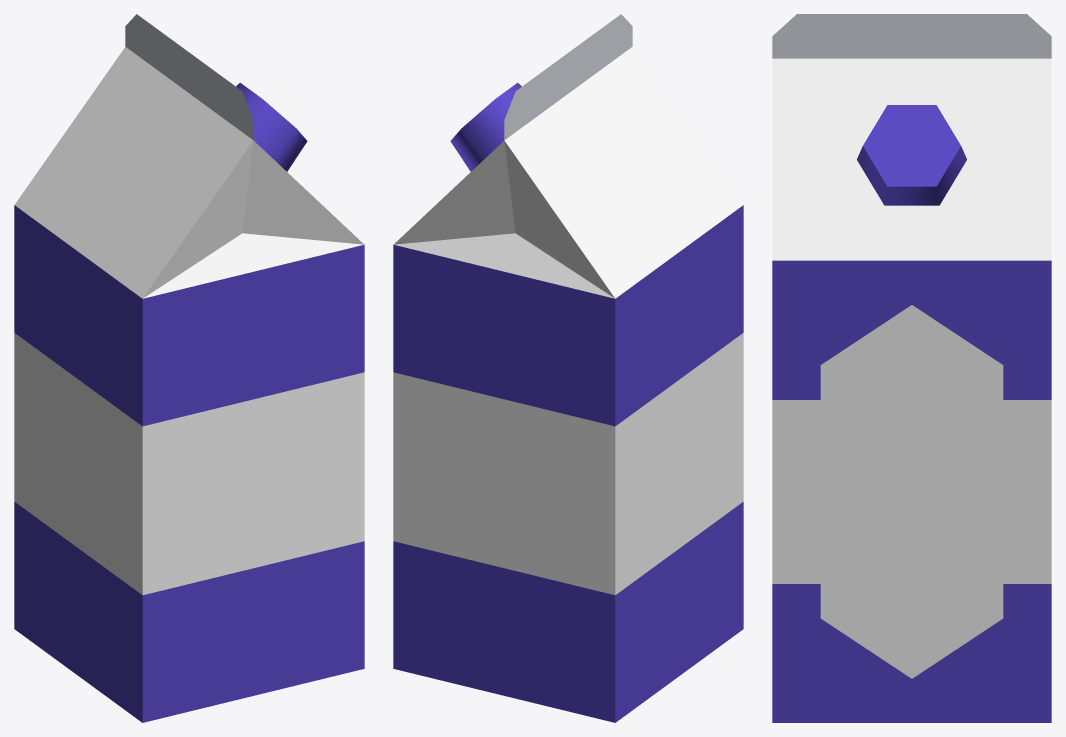
Rendered from carton.fbx.
The picture shows the model from 3 angles, left to right: view 1: azimuth 30°, elevation 25°; view 2: azimuth 150°, elevation 25°; view 3: azimuth 270°, elevation 25°; orthographic projection. The views are drawn at different scales.
Visible parts, largest first — view 1: carton; view 2: carton; view 3: carton.
Part boxes in pixels (x1=…): carton: x1=14, y1=14, x2=364, y2=722; carton: x1=393, y1=14, x2=743, y2=722; carton: x1=772, y1=14, x2=1051, y2=722.
Bounding box in the file's own units: 0.23 × 0.5905 × 0.23.
